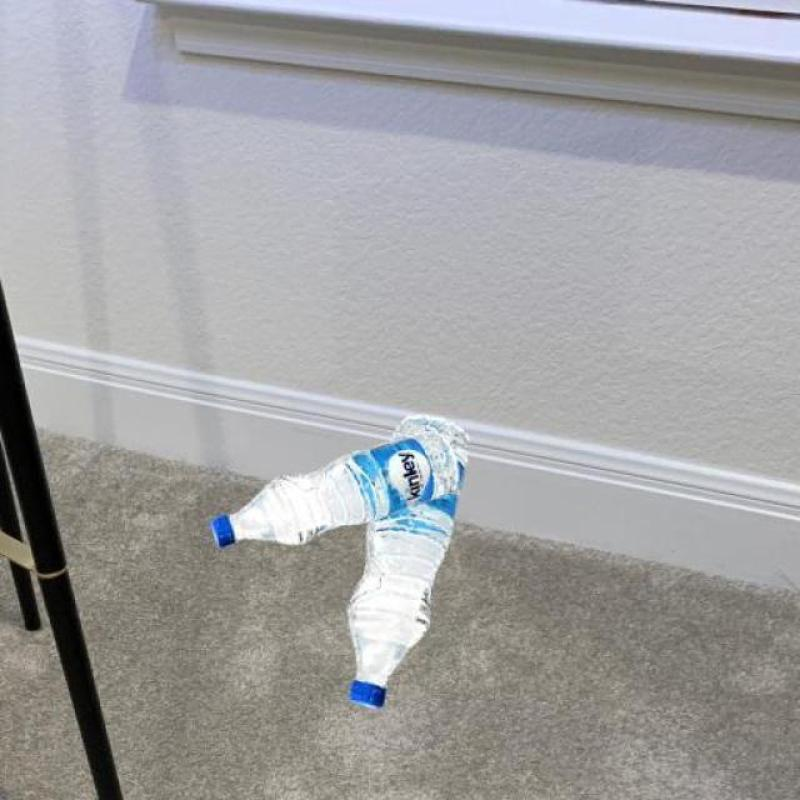botella: (344, 413, 470, 707), (209, 430, 460, 548)
